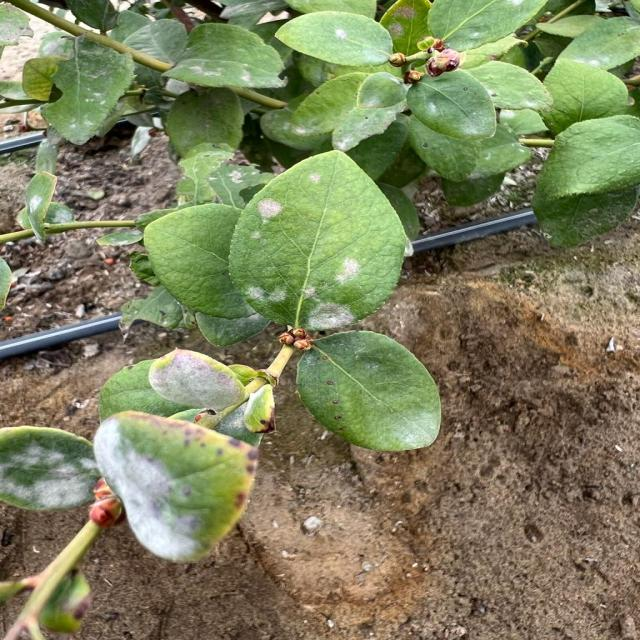Hojas con oidiosis: (222, 146, 402, 332), (291, 327, 443, 452), (156, 21, 288, 91), (403, 66, 506, 144), (270, 8, 397, 66), (145, 344, 249, 410)
